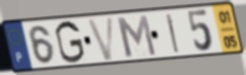5: (186, 7, 216, 54)
6: (27, 24, 57, 66)
G: (53, 19, 87, 65)
I: (164, 12, 181, 55)
M: (114, 14, 159, 59)
V: (85, 15, 117, 63)
